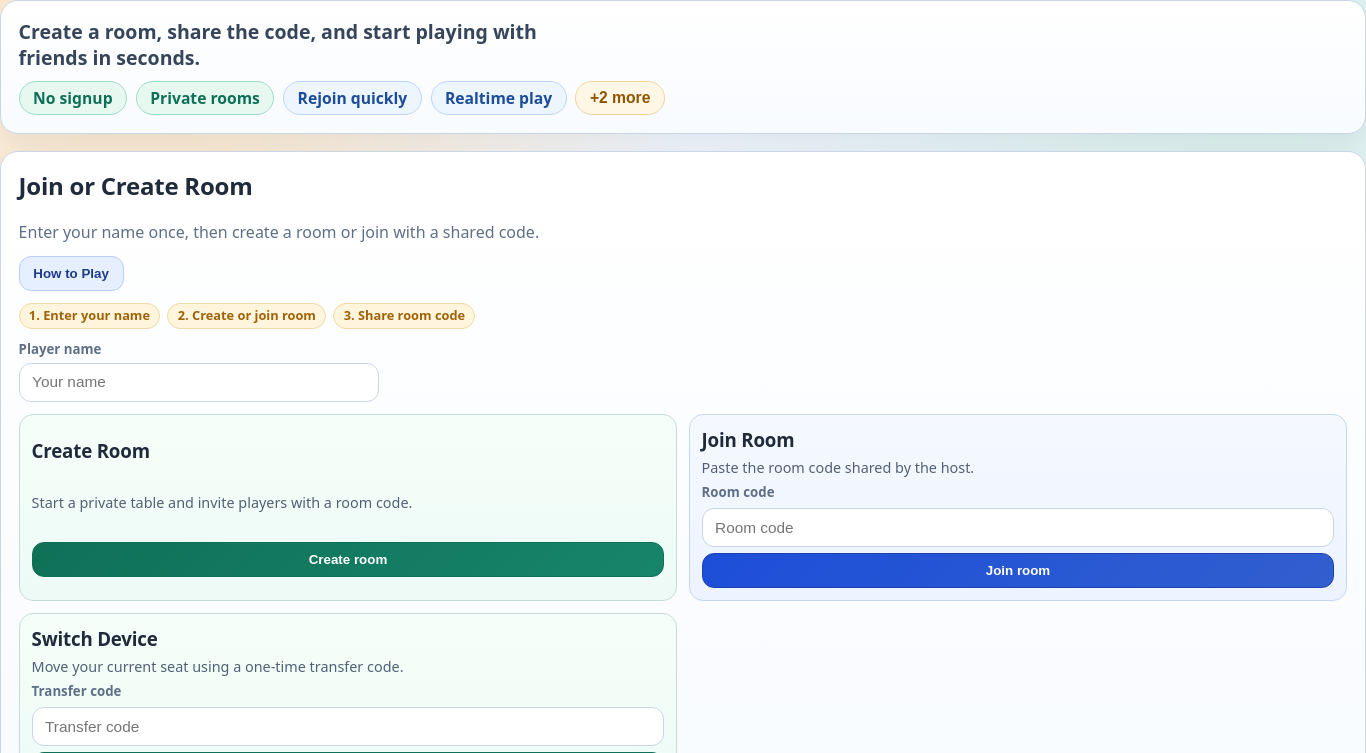
Test: GameClient › switches how to play modal language to Gujarati
Step 1. Click the button "How to Play" → {"x": 71, "y": 273}, box [19,256,124,291]
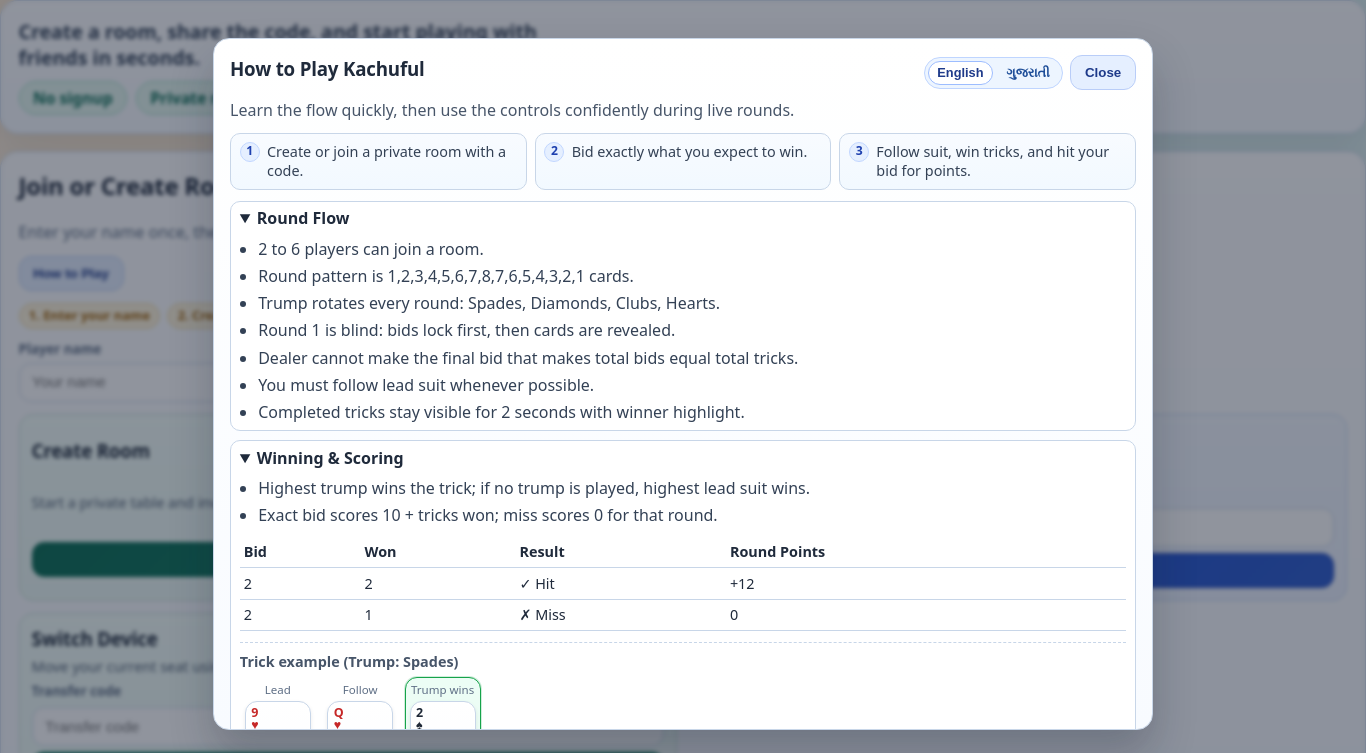
Step 2. Click the button "ગુજરાતી" → {"x": 1028, "y": 73}, box [996,61,1059,85]
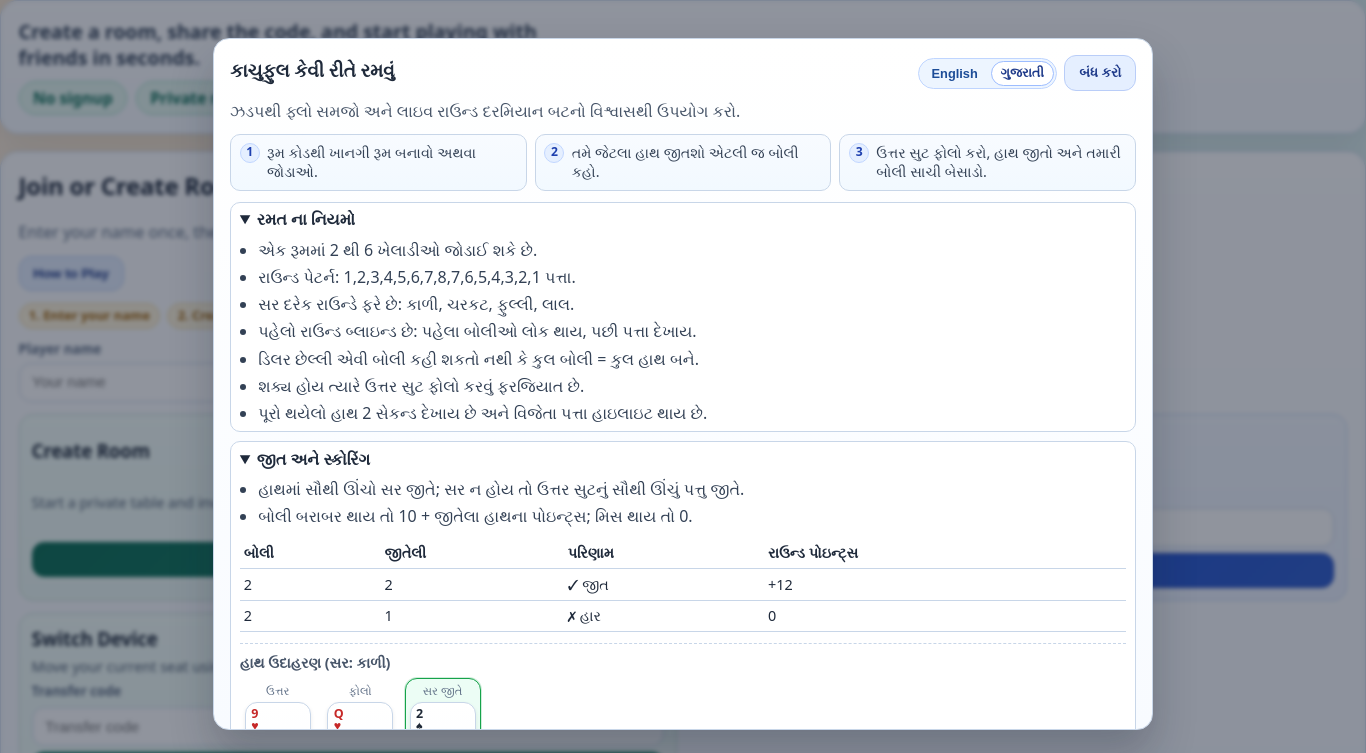
Expected: the heading "કાચુફુલ કેવી રીતે રમવું" is shown, [230,57,394,82]
Expected: the heading "રમત ના નિયમો" is shown, [257,208,355,230]
Expected: the list item "સર દરેક રાઉન્ડે ફરે છે: કાળી, ચરકટ, ફુલ્લી, લાલ." is shown, [258,293,574,315]
Step 3. Click the button "English" → {"x": 955, "y": 73}, box [922,62,988,85]
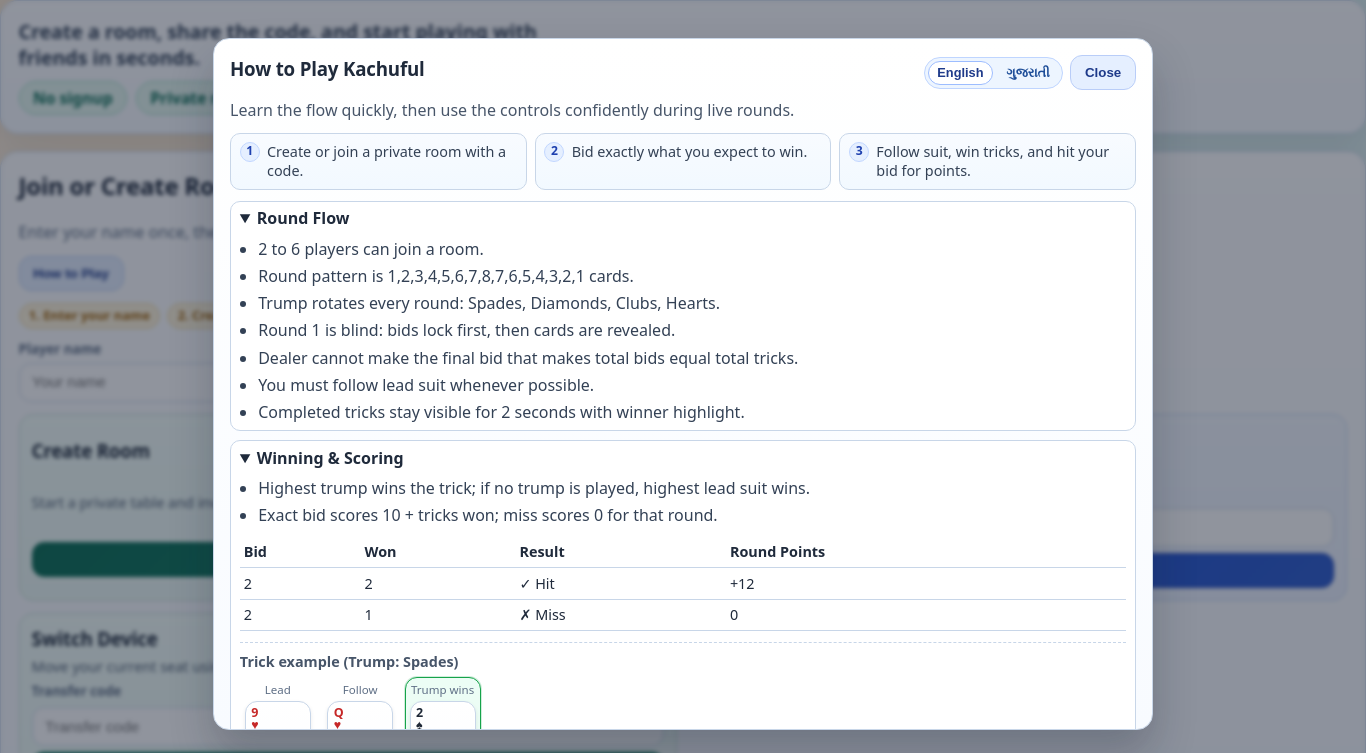
Expected: the heading "How to Play Kachuful" is shown, [230,56,425,82]
